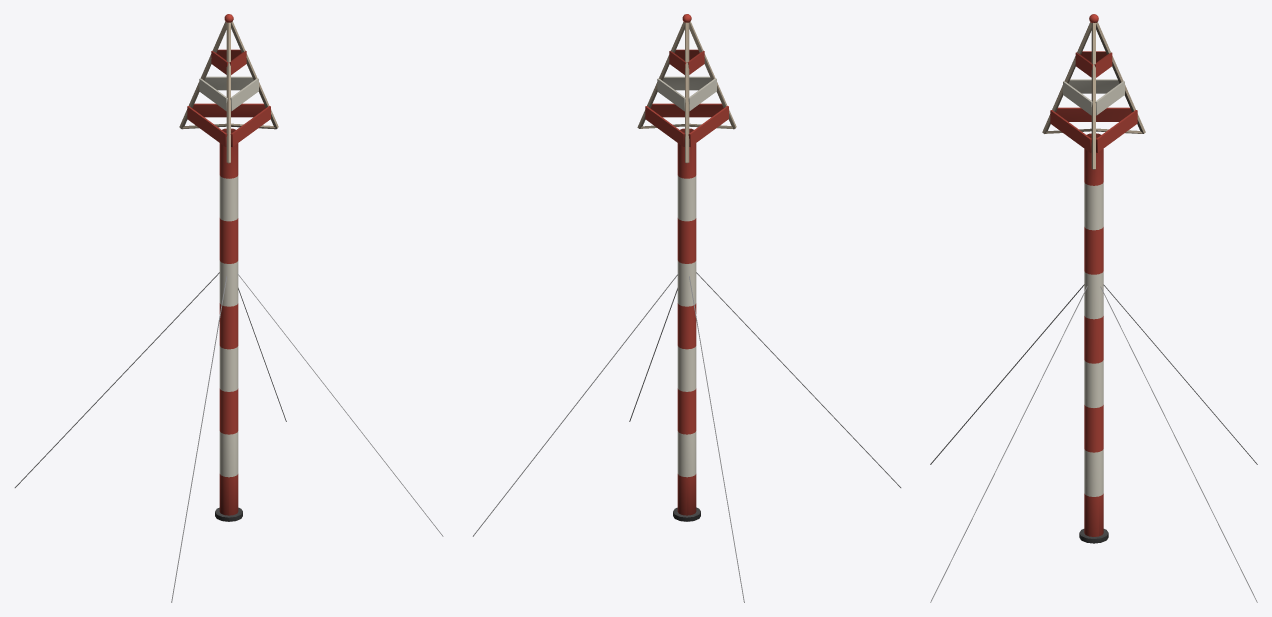
File: survey_mast.glb
The picture shows the model from 3 angles, left to right: view 1: azimuth 30°, elevation 25°; view 2: azimuth 150°, elevation 25°; view 3: azimuth 270°, elevation 25°; orthographic projection. The views are drawn at different scales.
Visible parts, largest first — view 1: static; view 2: static; view 3: static.
Part boxes in pixels (<box>): static: <box>14,14,443,602</box>; static: <box>472,14,901,602</box>; static: <box>930,14,1257,602</box>.
Size of the model in its own units: 4.01 by 7.06 by 4.01.
